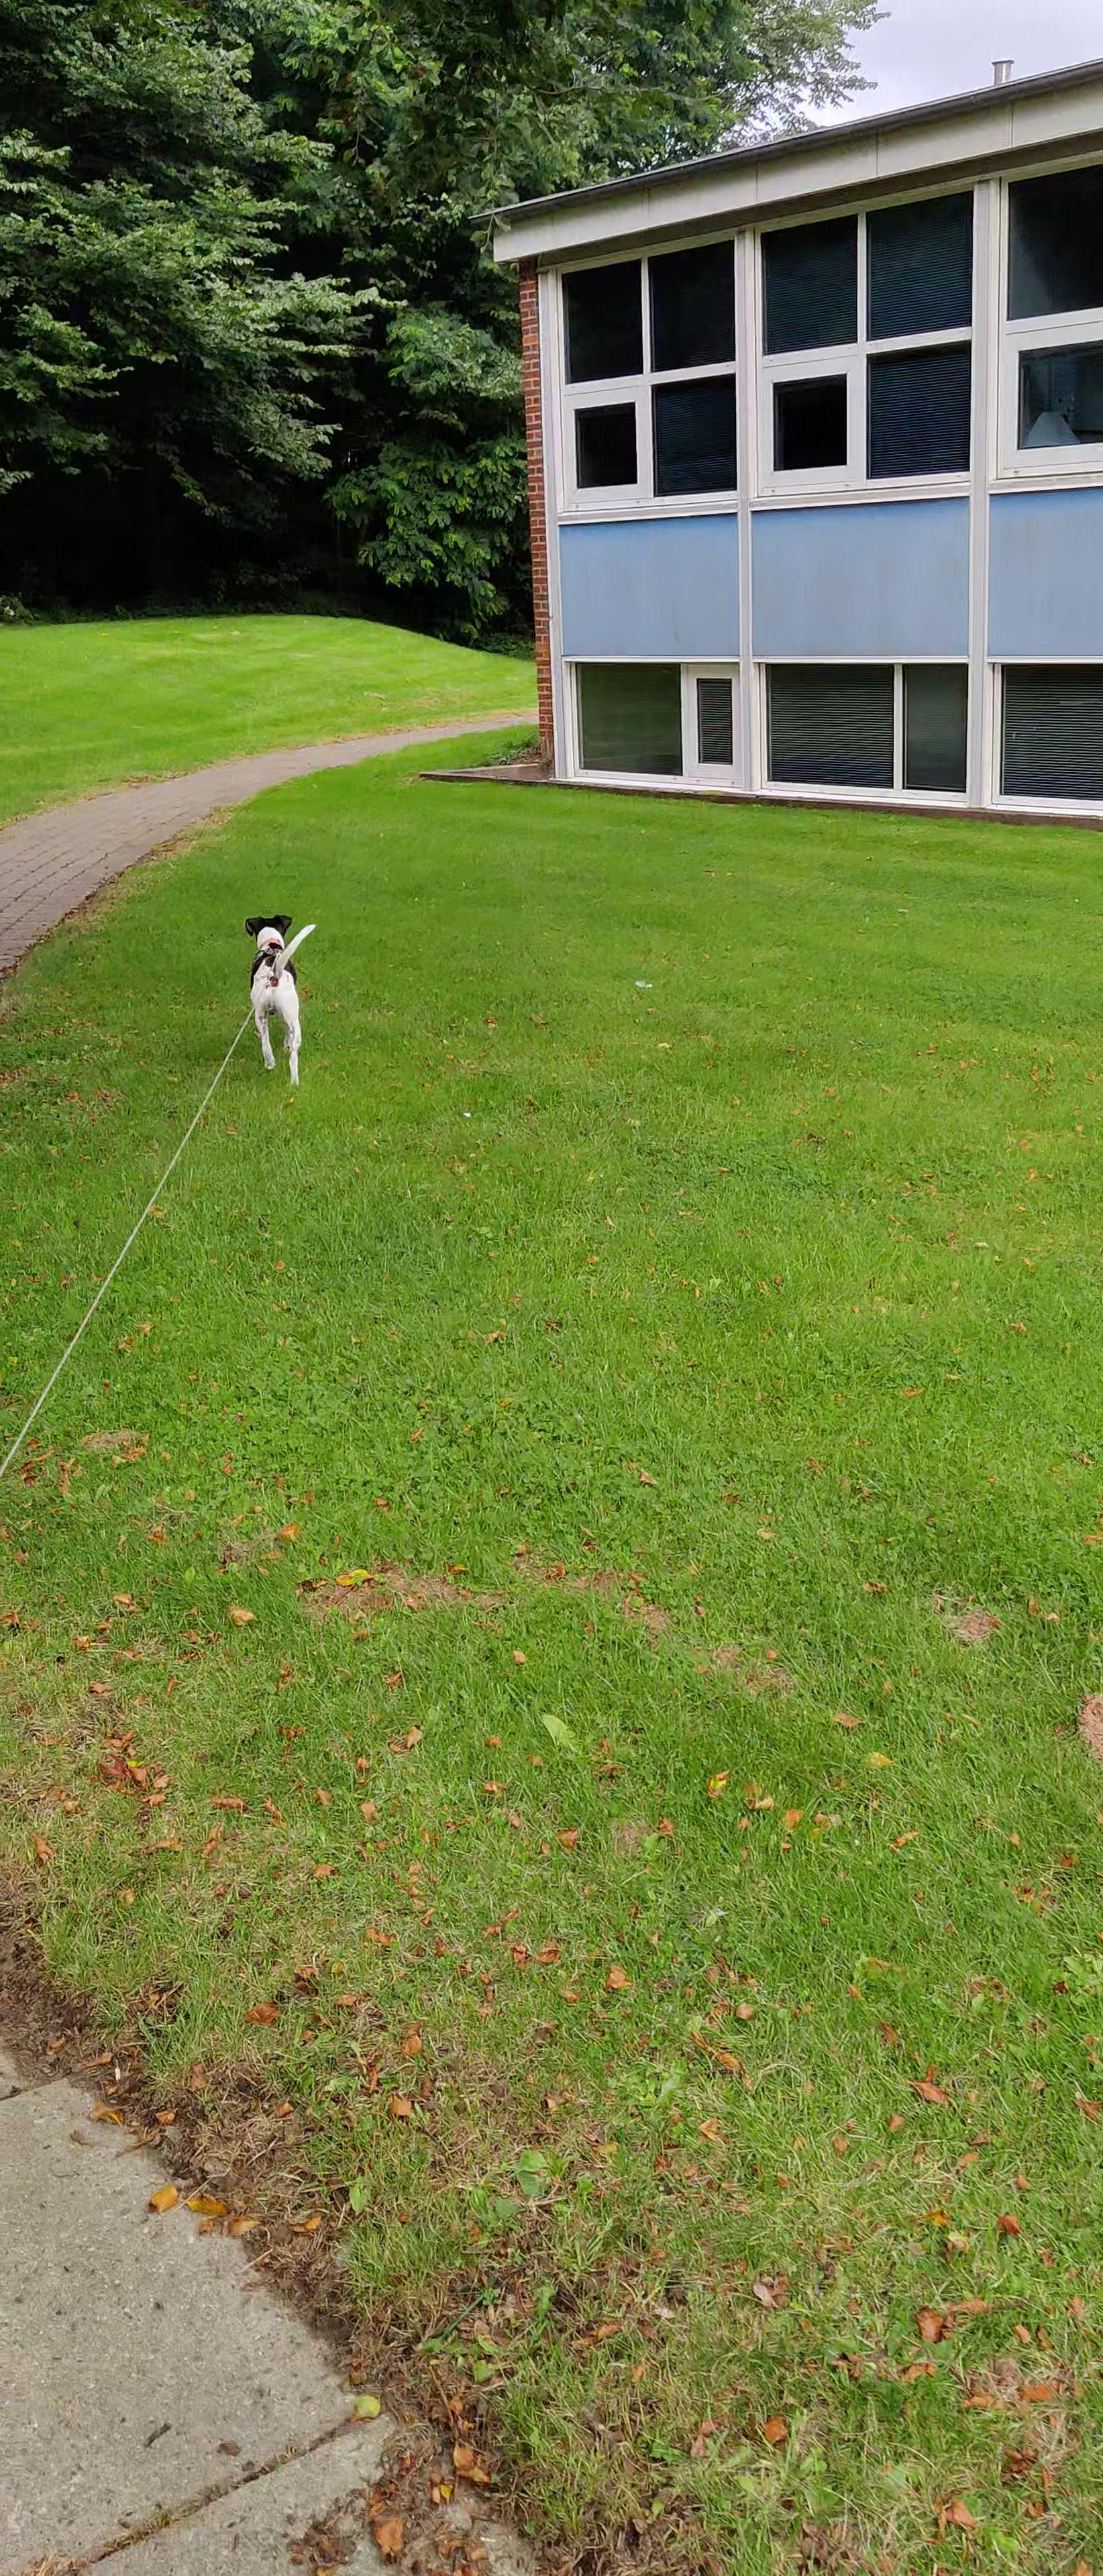Dog: (235, 908, 319, 1092)
